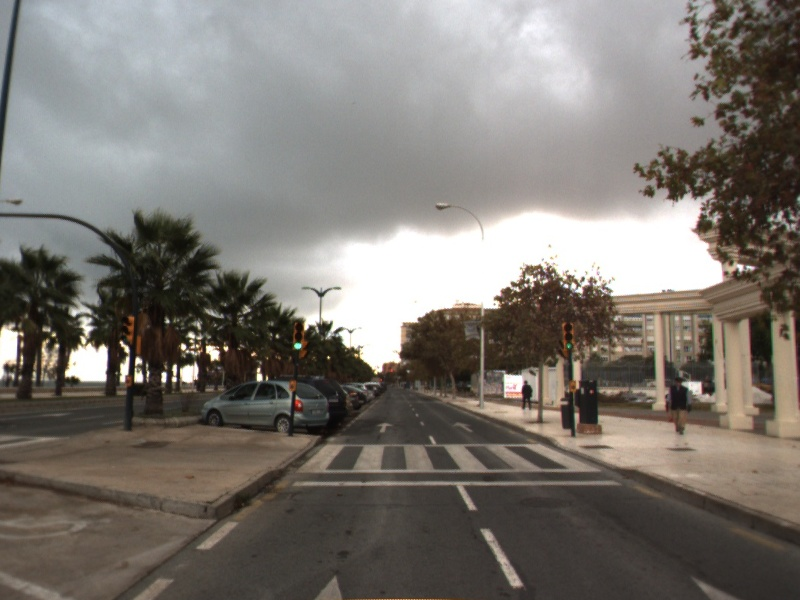STRAIGHT: (451, 420, 475, 433), (375, 421, 395, 434)
